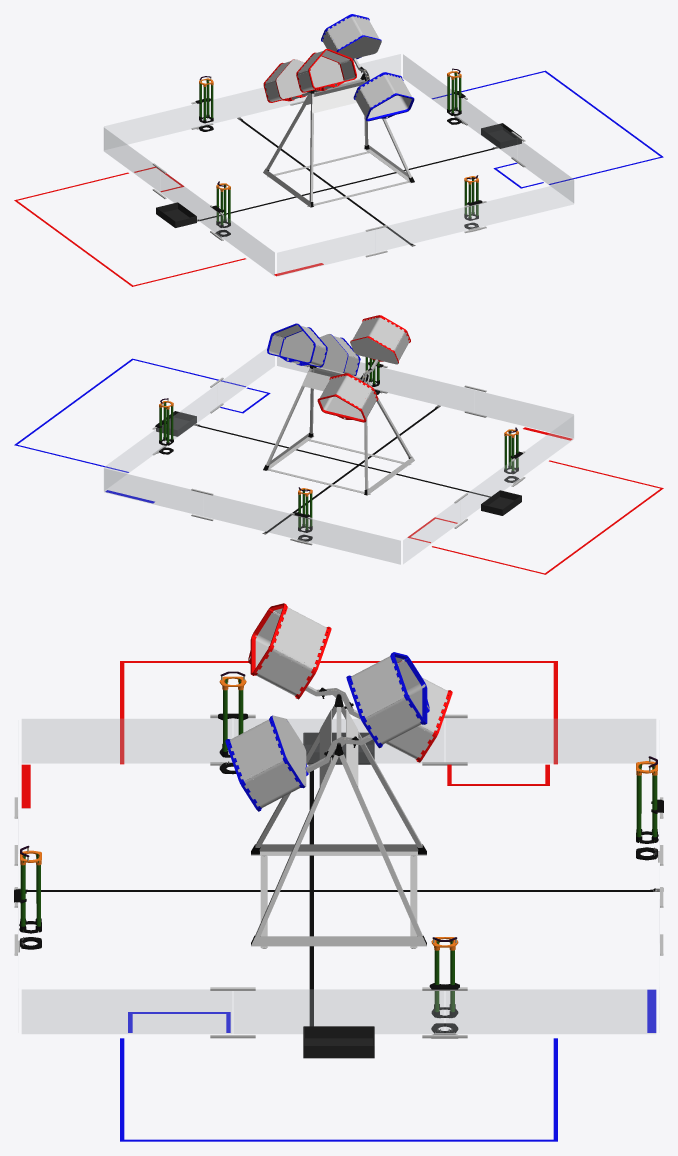
Rendered from field.glb.
3 views of the same model, one above another, from view 1: azimuth 30°, elevation 25°; view 2: azimuth 150°, elevation 25°; view 3: azimuth 270°, elevation 25° (orthographic). The views are drawn at different scales.
Visible parts, largest first — view 1: glass, hive_blue, frame, hive_red, tape, perimeter, misc, flower_1, flower_4, flower_3, flower_2; view 2: glass, hive_red, hive_blue, frame, tape, perimeter, misc, flower_4, flower_3, flower_1; view 3: glass, hive_blue, frame, hive_red, tape, perimeter, misc, flower_1, flower_4, flower_2, flower_3.
Boxes of the visible parts, x1=… form: glass: x1=104, y1=54, x2=573, y2=276; hive_blue: x1=321, y1=14, x2=414, y2=121; frame: x1=263, y1=73, x2=414, y2=207; hive_red: x1=263, y1=49, x2=356, y2=102; tape: x1=14, y1=70, x2=663, y2=286; perimeter: x1=152, y1=90, x2=525, y2=257; misc: x1=156, y1=123, x2=521, y2=227; flower_1: x1=195, y1=76, x2=213, y2=131; flower_4: x1=447, y1=68, x2=465, y2=124; flower_3: x1=212, y1=181, x2=230, y2=239; flower_2: x1=464, y1=175, x2=482, y2=232; glass: x1=104, y1=348, x2=573, y2=564; hive_red: x1=317, y1=315, x2=410, y2=422; hive_blue: x1=267, y1=323, x2=360, y2=375; frame: x1=263, y1=365, x2=414, y2=495; tape: x1=14, y1=358, x2=663, y2=574; perimeter: x1=152, y1=361, x2=525, y2=545; misc: x1=156, y1=411, x2=521, y2=515; flower_4: x1=155, y1=398, x2=173, y2=454; flower_3: x1=504, y1=427, x2=522, y2=485; flower_1: x1=294, y1=487, x2=312, y2=544; glass: x1=18, y1=719, x2=659, y2=1033; hive_blue: x1=225, y1=652, x2=429, y2=811; frame: x1=251, y1=694, x2=426, y2=948; hive_red: x1=248, y1=603, x2=452, y2=762; tape: x1=21, y1=661, x2=656, y2=1141; perimeter: x1=14, y1=714, x2=663, y2=1038; misc: x1=303, y1=732, x2=374, y2=1058; flower_1: x1=636, y1=756, x2=663, y2=862; flower_4: x1=429, y1=937, x2=459, y2=1038; flower_2: x1=14, y1=845, x2=41, y2=952; flower_3: x1=218, y1=671, x2=248, y2=774.
Size of the model in its own units: 6.38 by 1.7 by 3.65.
